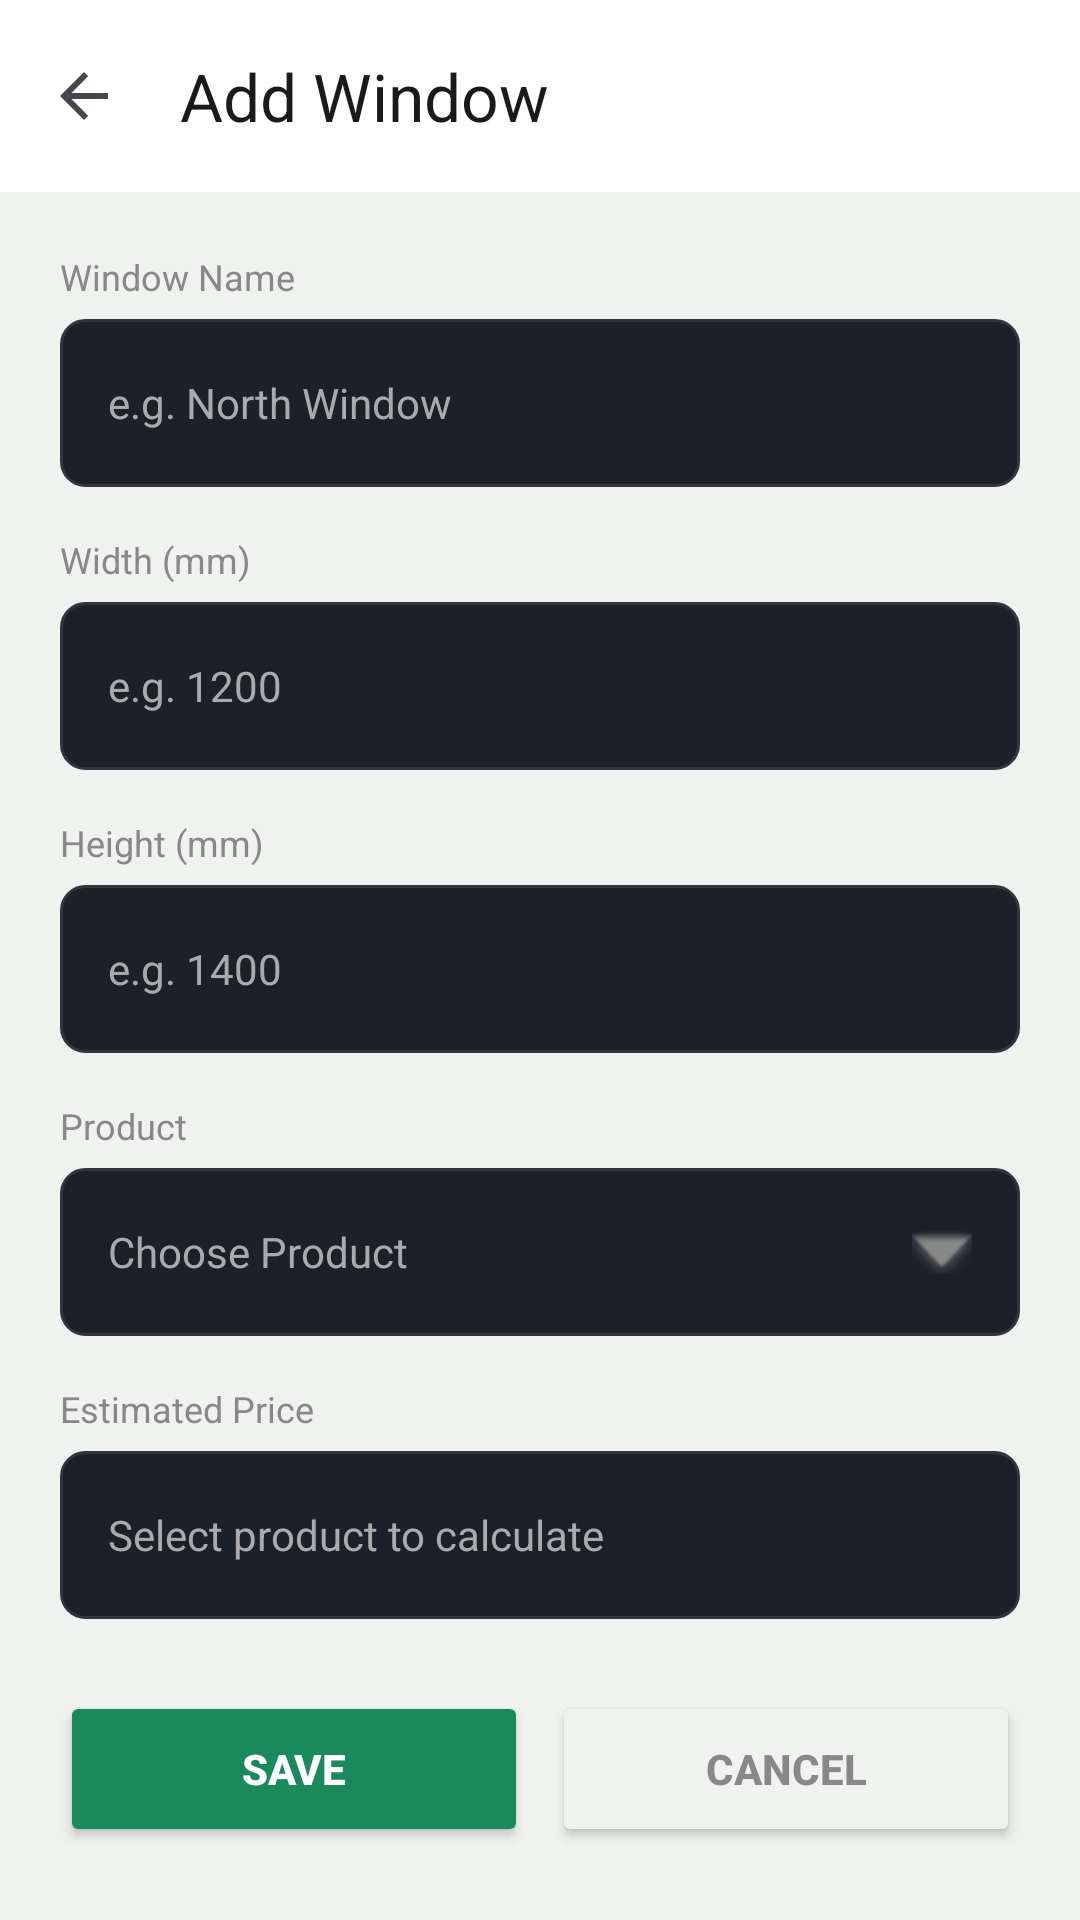

Screen size 1080×1920. Icon name, then its center in pixels as (x=x, y=y):
arrow down float: (x=942, y=1251)
